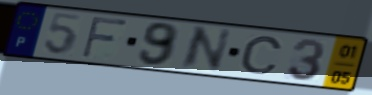3: (286, 38, 328, 83)
5: (42, 11, 84, 57)
9: (135, 21, 183, 68)
C: (238, 35, 285, 76)
F: (79, 15, 131, 61)
N: (177, 25, 235, 72)
